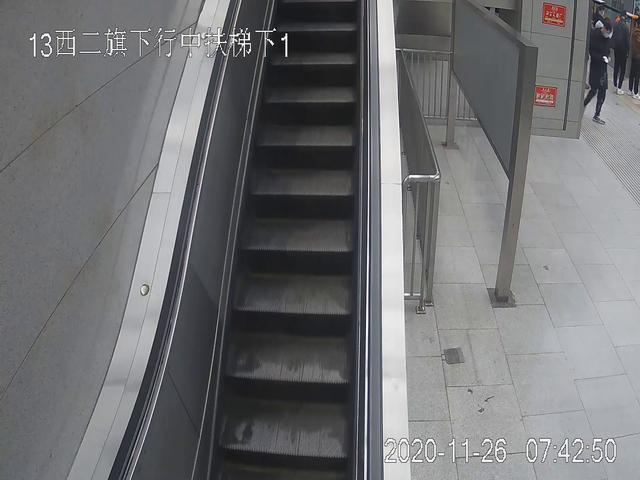person: (581, 19, 612, 125), (609, 12, 635, 94)
